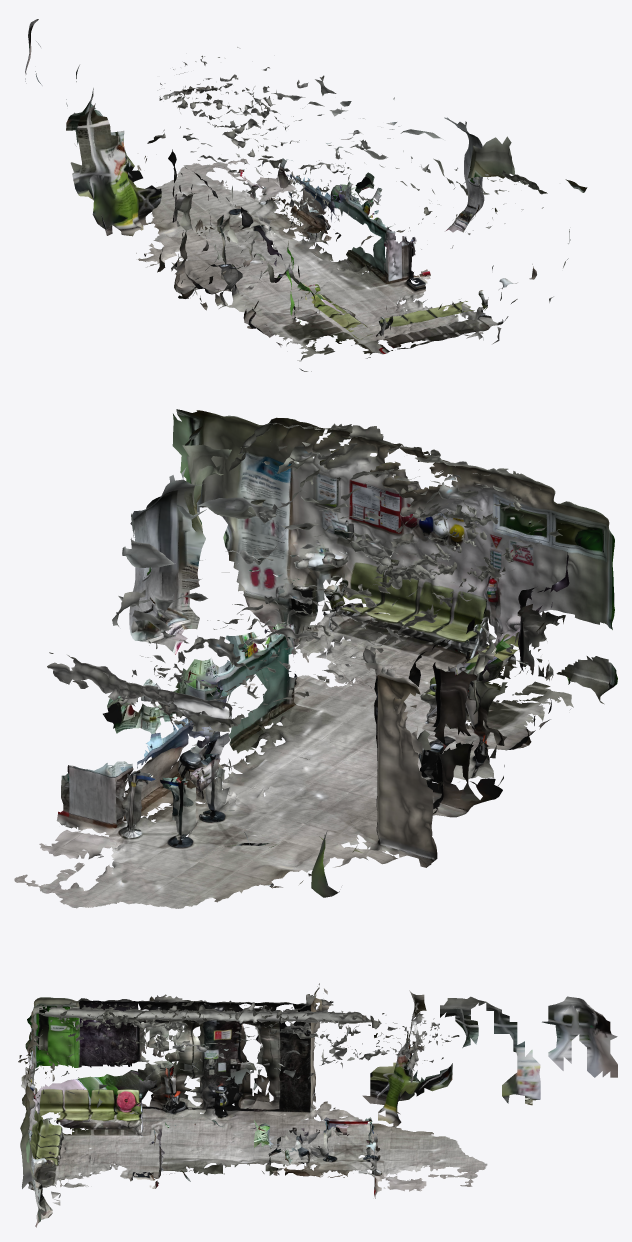
File: 144286-lt1b-tex.glb
3 renders of one model, top to bottom at view 1: azimuth 30°, elevation 25°; view 2: azimuth 150°, elevation 25°; view 3: azimuth 270°, elevation 25°, orthographic. The views are drawn at different scales.
Visible parts, largest first — view 1: Node; view 2: Node; view 3: Node.
Boxes of the visible parts, left/top/right/bottom form: Node: left=25, top=19, right=587, bottom=371; Node: left=14, top=409, right=617, bottom=908; Node: left=18, top=983, right=617, bottom=1227.
Size of the model in its own units: 7.71 by 4.08 by 12.65.
Materials: 21 (21 with a texture image).
